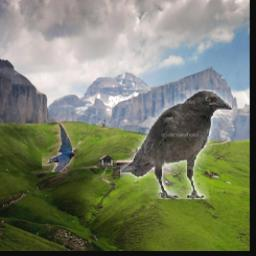Crow: (121, 90, 233, 199)
Swallow: (43, 123, 75, 173)
